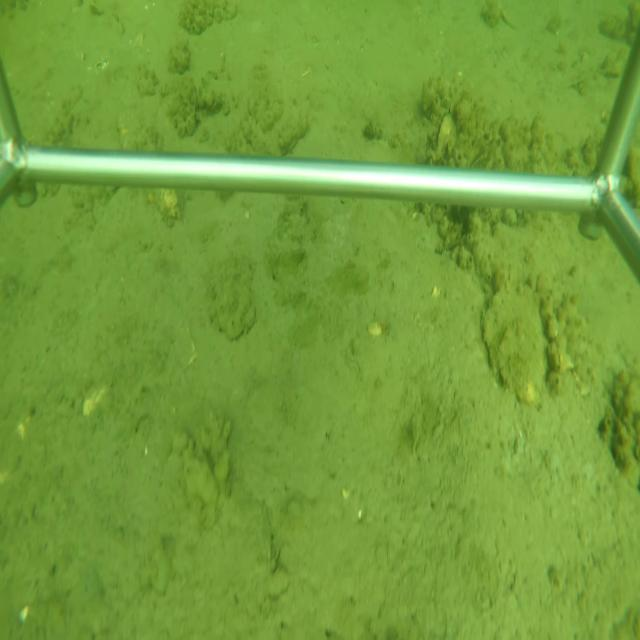Oyster-Closed: (435, 112, 454, 157)
Oyster-Indeterminate: (481, 277, 550, 398)
